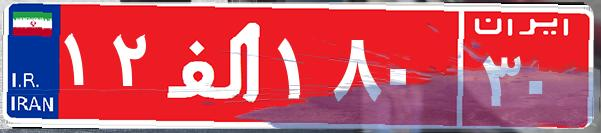0: (385, 28, 445, 110), (525, 38, 570, 115)
1: (273, 28, 330, 110), (57, 26, 110, 107)
2: (110, 28, 158, 105)
3: (475, 38, 525, 113)
8: (330, 28, 385, 110)
الف: (158, 15, 273, 115)
